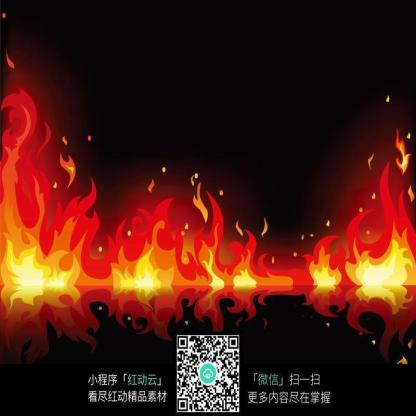fire: (0, 49, 415, 312)
